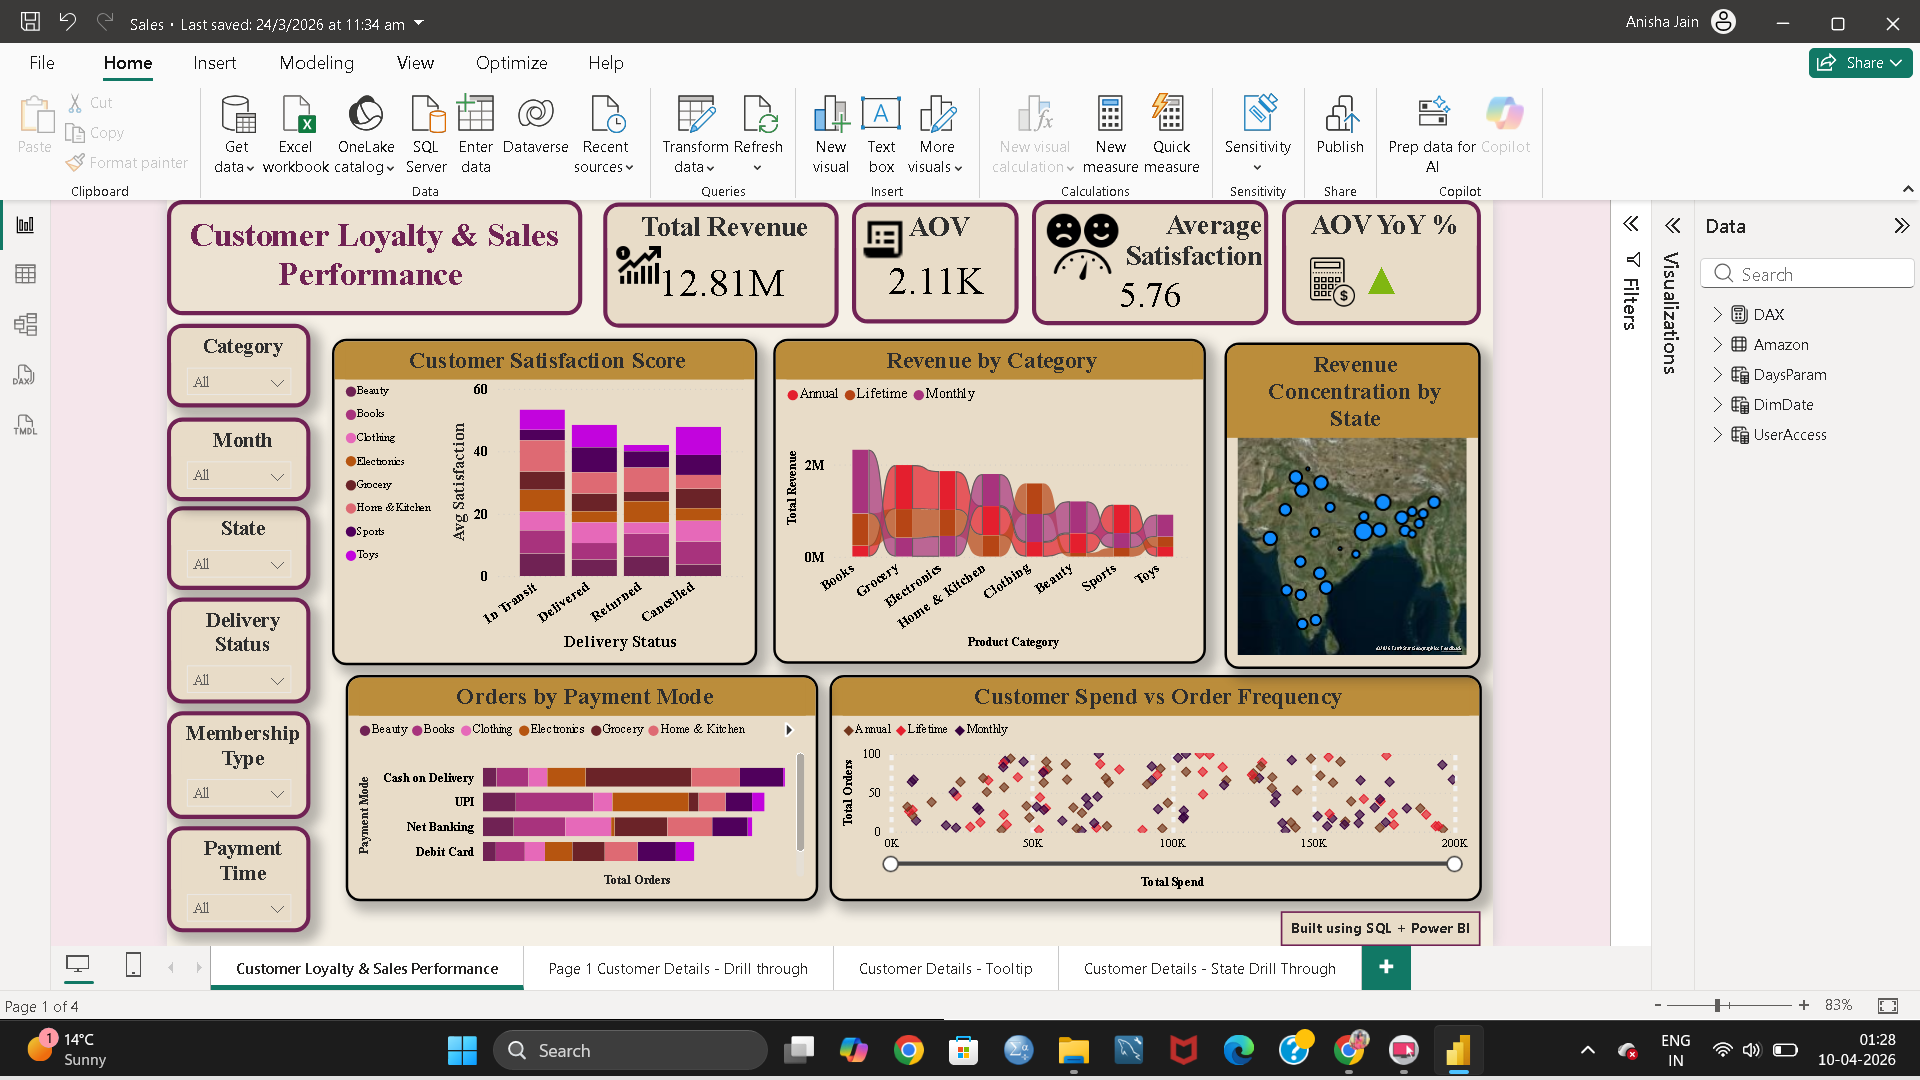

This screenshot's page, from the dashboard's own definition file:
{"tool":"powerbi","page":{"name":"Customer Loyalty & Sales Performance ","canvas":[1280,720],"ordinal":0},"visuals":[{"type":"card","title":"AOV YoY %","fields":{"Values":["DAX.AOV YoY Arrow"]},"box":[1076.4,0,192.2,120.8],"z":0},{"type":"card","title":"Total Revenue","fields":{"Values":["DAX.Total Revenue"]},"box":[421,2.4,226.8,120.6],"z":1000},{"type":"card","title":"AOV","fields":{"Values":["DAX.AOV"]},"box":[661.1,2.4,160.5,117],"z":2000},{"type":"card","title":"Average Satisfaction","fields":{"Values":["DAX.Avg Satisfaction"]},"box":[834.9,0,228,120.6],"z":3000},{"type":"columnChart","title":"Customer Satisfaction Score","fields":{"Category":["jbjj.Delivery Status"],"Y":["DAX.Avg Satisfaction"],"Series":["jbjj.Product Category"]},"box":[159.3,133.9,410.2,314.9],"z":4000},{"type":"ribbonChart","title":"Revenue by Category","fields":{"Category":["jbjj.Preferred Category"],"Y":["DAX.Total Revenue"],"Series":["jbjj.Membership Type"]},"box":[585.1,133.9,417.4,313.7],"z":5000},{"type":"scatterChart","title":"Customer Spend vs Order Frequency","fields":{"X":["jbjj.Total Spend"],"Y":["jbjj.Total Orders"],"Size":["CountNonNull(jbjj.Loyalty Points)"],"Series":["jbjj.Membership Type"]},"box":[639.4,458.4,629.8,218.4],"z":6000},{"type":"slicer","title":"State","fields":{"Values":["jbjj.State"]},"box":[0,295.6,138.7,80.8],"z":7000},{"type":"slicer","title":"Delivery Status","fields":{"Values":["jbjj.Delivery Status"]},"box":[0,383.6,138.7,102.5],"z":8000},{"type":"slicer","title":"Membership Type","fields":{"Values":["jbjj.Membership Type"]},"box":[0,493.4,138.7,103.8],"z":9000},{"type":"slicer","title":"Payment Time","fields":{"Values":["jbjj.Preferred Payment Time"]},"box":[0,604.4,138.7,102.5],"z":10000},{"type":"slicer","title":"Category","fields":{"Values":["jbjj.Preferred Category"]},"box":[0,119.4,138.7,80.8],"z":11000},{"type":"barChart","title":"Orders by Payment Mode","fields":{"Category":["jbjj.Payment Mode"],"Y":["DAX.Total Orders"],"Series":["jbjj.Product Category"]},"box":[172.5,458.4,456,218.4],"z":12000},{"type":"textbox","box":[0,0,400.5,111],"z":13000},{"type":"slicer","title":"Month","fields":{"Values":["DimDate.Month"]},"box":[0,209.9,138.7,80.8],"z":14000},{"type":"image","box":[661.1,14.5,61.5,47.1],"z":15000},{"type":"image","box":[421,38.6,67.6,48.3],"z":16000},{"type":"image","box":[834.9,7.2,97.7,74.8],"z":17000},{"type":"image","box":[1093.3,32.5,53.2,87],"z":18000},{"type":"azureMap","title":"Revenue Concentration by State","fields":{"Category":["jbjj.State"],"Size":["CountNonNull(jbjj.Total Spend)"]},"box":[1020.6,137.5,247.3,314.9],"z":19000},{"type":"textbox","box":[1074.9,686.5,193,33.8],"z":20000}]}

Visuals, with their boxes on the page's 1280x720 design canvas (x1, y1, x2, y2). These are canvas units, not pixel positions in the 1920x1080 screenshot, which may show the page scaled, cropped or inside an application window:
"AOV YoY %" card: (left=1076, top=0, right=1269, bottom=121)
"Total Revenue" card: (left=421, top=2, right=648, bottom=123)
"AOV" card: (left=661, top=2, right=822, bottom=119)
"Average Satisfaction" card: (left=835, top=0, right=1063, bottom=121)
"Customer Satisfaction Score" columnChart: (left=159, top=134, right=570, bottom=449)
"Revenue by Category" ribbonChart: (left=585, top=134, right=1002, bottom=448)
"Customer Spend vs Order Frequency" scatterChart: (left=639, top=458, right=1269, bottom=677)
"State" slicer: (left=0, top=296, right=139, bottom=376)
"Delivery Status" slicer: (left=0, top=384, right=139, bottom=486)
"Membership Type" slicer: (left=0, top=493, right=139, bottom=597)
"Payment Time" slicer: (left=0, top=604, right=139, bottom=707)
"Category" slicer: (left=0, top=119, right=139, bottom=200)
"Orders by Payment Mode" barChart: (left=172, top=458, right=628, bottom=677)
textbox: (left=0, top=0, right=400, bottom=111)
"Month" slicer: (left=0, top=210, right=139, bottom=291)
image: (left=661, top=14, right=723, bottom=62)
image: (left=421, top=39, right=489, bottom=87)
image: (left=835, top=7, right=933, bottom=82)
image: (left=1093, top=32, right=1146, bottom=120)
"Revenue Concentration by State" azureMap: (left=1021, top=138, right=1268, bottom=452)
textbox: (left=1075, top=686, right=1268, bottom=720)
